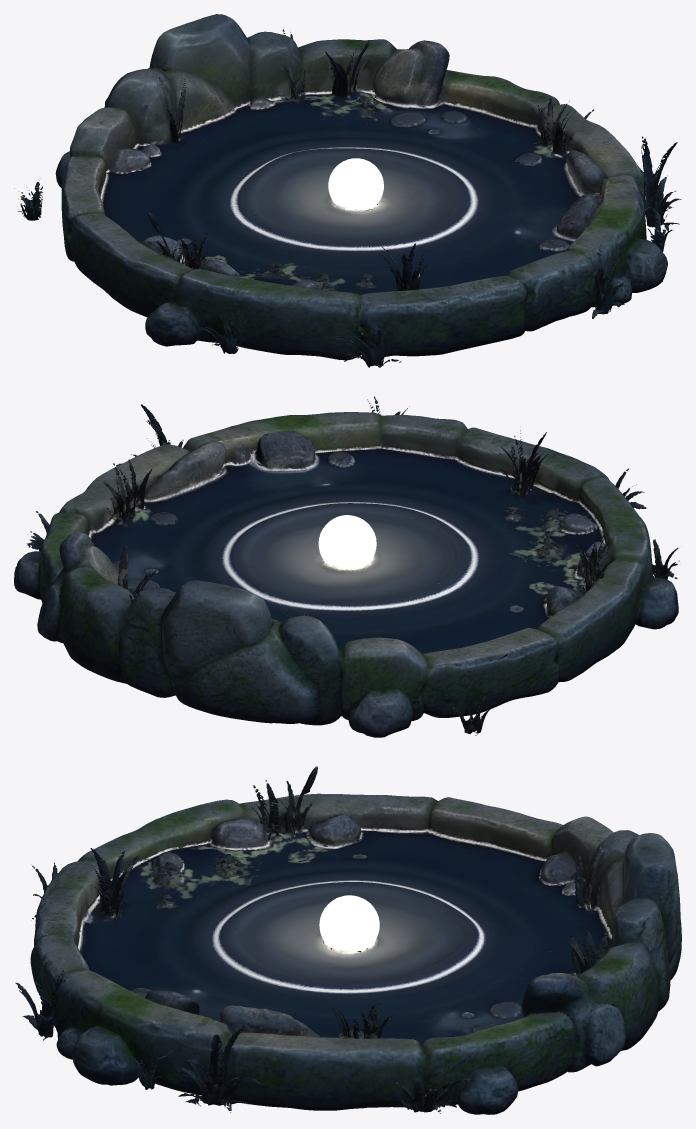
The model's file is Moonlit_Ring_in_a_Sto.fbx.
3 views of the same model, one above another, from view 1: azimuth 30°, elevation 25°; view 2: azimuth 150°, elevation 25°; view 3: azimuth 270°, elevation 25° (orthographic). The views are drawn at different scales.
Parts seen in each view (by area): view 1: Moonlit_Ring_in_a_Sto_LOD0; view 2: Moonlit_Ring_in_a_Sto_LOD0; view 3: Moonlit_Ring_in_a_Sto_LOD0.
Boxes of the visible parts, x1,y1,x2,y2 form: Moonlit_Ring_in_a_Sto_LOD0: [14, 14, 681, 367]; Moonlit_Ring_in_a_Sto_LOD0: [14, 396, 679, 737]; Moonlit_Ring_in_a_Sto_LOD0: [15, 766, 681, 1114].
Size of what is drawn, in the model's own units: 1.88 by 0.4063 by 1.9.
1 material, 1 textured.
